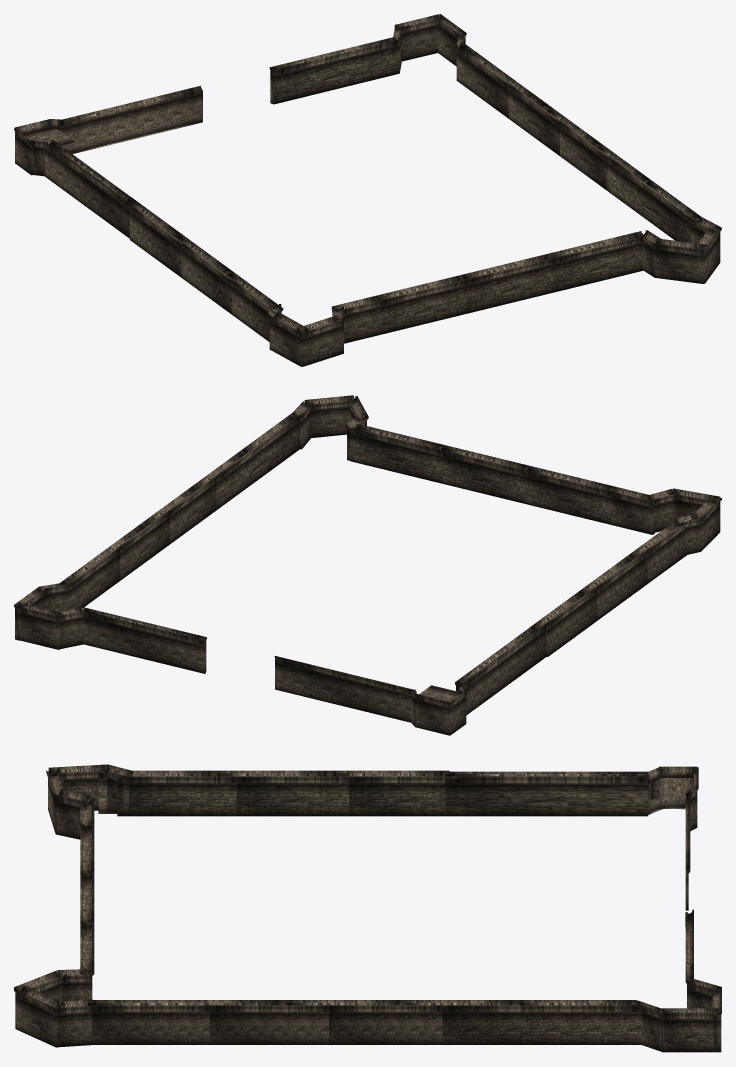
File: dvorac-zidovi.fbx
3 renders of one model, top to bottom at view 1: azimuth 30°, elevation 25°; view 2: azimuth 150°, elevation 25°; view 3: azimuth 270°, elevation 25°, orthographic. The views are drawn at different scales.
Parts seen in each view (by area): view 1: Zid.9, Zid.10, Zid 90°.7, Zid 90°.8, Lijeva strana, Zid.13, Zid.8, Kut donji 1, Zid 90°.3, Kut donji 2, Zid.11, Zid.7 (+13 smaller); view 2: Zid.9, Zid.17, Lijeva strana, Zid 90°.5, Zid 90°, Zid.13, Zid.8, Zid 90°.6, Kut lijevi, Kut desni, Zid.7, Zid.2 (+13 smaller); view 3: Zid.3, Zid.18, Zid.16, Zid.15, Zid.4, Zid.5, Zid.19, Zid.6, Kut donji 1, Kut lijevi, Lijeva strana, Kut donji 2 (+12 smaller).
Part boxes in pixels (bbox=[...]): Zid.9: bbox=[57, 85, 202, 153]; Zid.10: bbox=[272, 39, 399, 104]; Zid 90°.7: bbox=[554, 235, 645, 292]; Zid 90°.8: bbox=[466, 257, 556, 313]; Lijeva strana: bbox=[397, 16, 715, 250]; Zid.13: bbox=[606, 156, 698, 242]; Zid.8: bbox=[44, 142, 135, 238]; Kut donji 1: bbox=[639, 217, 721, 283]; Zid 90°.3: bbox=[383, 278, 469, 333]; Kut donji 2: bbox=[268, 305, 345, 366]; Zid.11: bbox=[455, 46, 510, 118]; Zid.7: bbox=[128, 205, 183, 277]; Zid.9: bbox=[274, 656, 416, 722]; Zid.17: bbox=[81, 610, 205, 673]; Lijeva strana: bbox=[17, 398, 362, 640]; Zid 90°.5: bbox=[349, 428, 442, 483]; Zid 90°: bbox=[523, 470, 611, 524]; Zid.13: bbox=[213, 413, 303, 510]; Zid.8: bbox=[460, 621, 549, 715]; Zid 90°.6: bbox=[441, 450, 526, 503]; Kut lijevi: bbox=[14, 583, 85, 649]; Kut desni: bbox=[410, 683, 467, 735]; Zid.7: bbox=[546, 585, 599, 656]; Zid.2: bbox=[593, 549, 648, 620]; Zid.3: bbox=[445, 776, 648, 816]; Zid.18: bbox=[442, 1005, 641, 1044]; Zid.16: bbox=[209, 1005, 328, 1044]; Zid.15: bbox=[92, 1005, 209, 1044]; Zid.4: bbox=[117, 776, 236, 816]; Zid.5: bbox=[236, 776, 348, 816]; Zid.19: bbox=[329, 1005, 442, 1044]; Zid.6: bbox=[349, 776, 468, 816]; Kut donji 1: bbox=[14, 969, 92, 1047]; Kut lijevi: bbox=[640, 978, 721, 1052]; Lijeva strana: bbox=[20, 973, 721, 1052]; Kut donji 2: bbox=[46, 764, 133, 839].
Bounding box in the file's own units: 1950 × 156 × 2365.
Materials: 1 (1 with a texture image).
